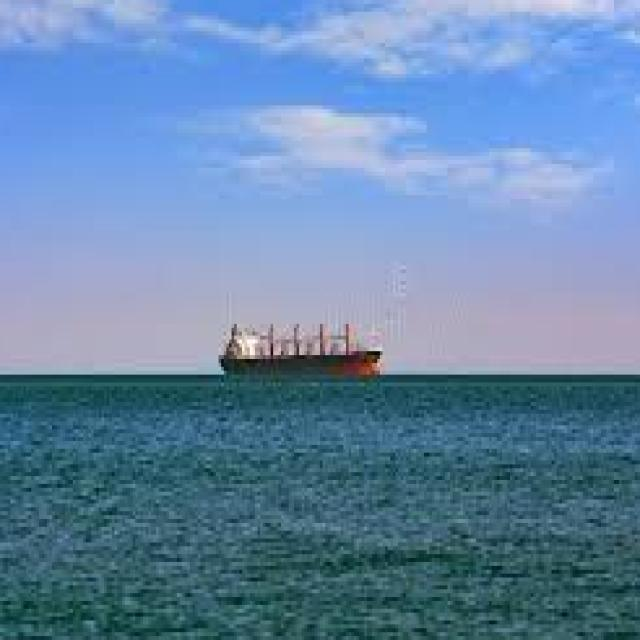cargoship: (218, 302, 384, 380)
